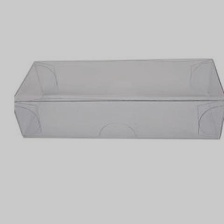plastic_box: (7, 46, 223, 148)
